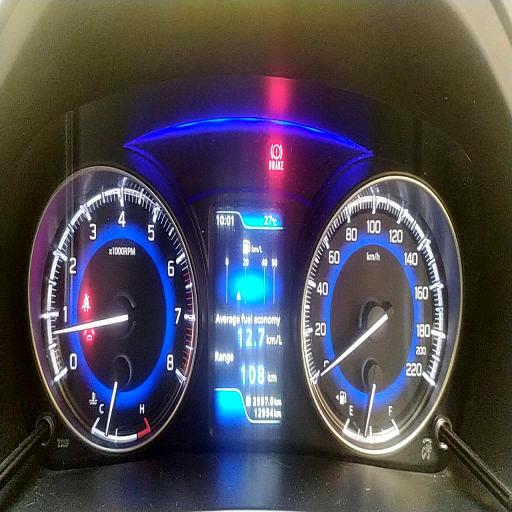belt: (80, 289, 92, 314)
brake_system_fault: (270, 142, 282, 160)
tachometer: (43, 185, 195, 429)
